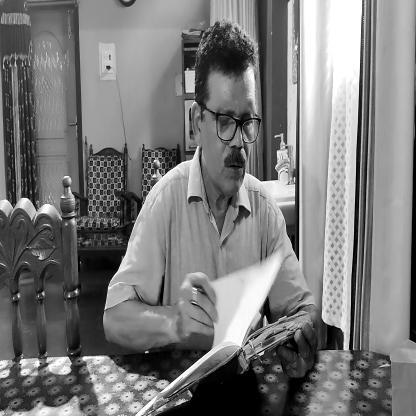Normal: (188, 15, 262, 209)
